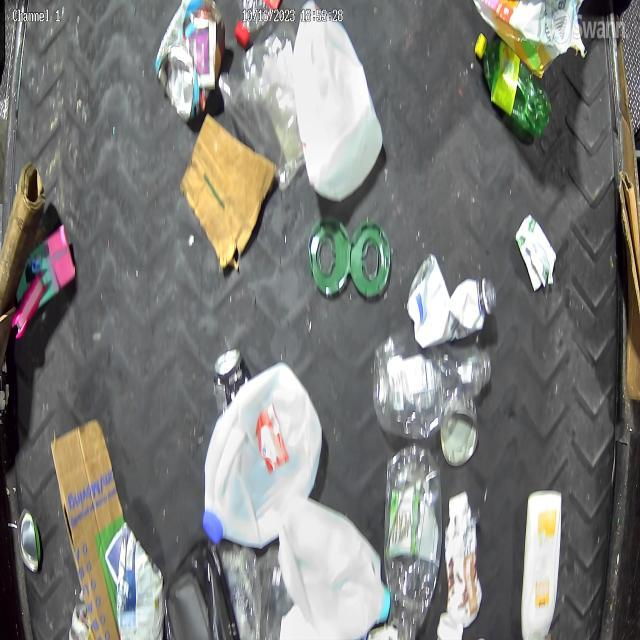can: (154, 0, 226, 121), (440, 399, 480, 467), (214, 350, 250, 420), (16, 506, 42, 574)
milk_jug: (202, 362, 322, 550), (292, 0, 382, 201), (277, 496, 390, 640)
plastic_bottle: (373, 334, 491, 436), (385, 443, 442, 640), (234, 0, 280, 46)
